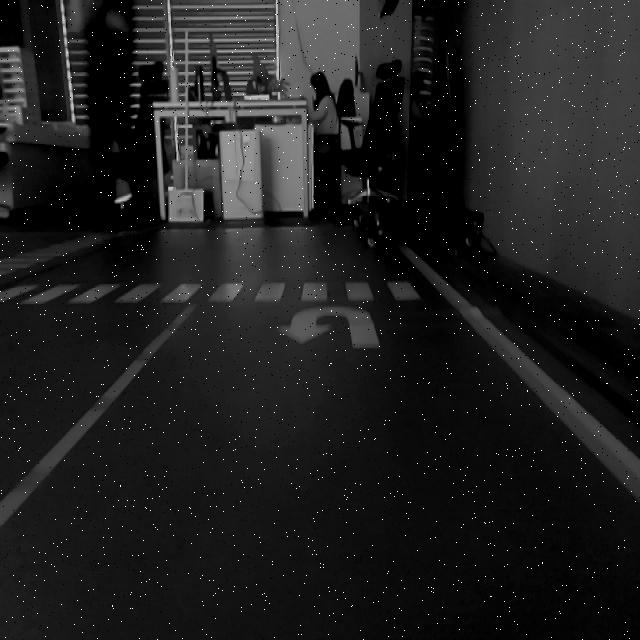left_lane: (400, 246, 640, 502), (0, 305, 195, 527)
